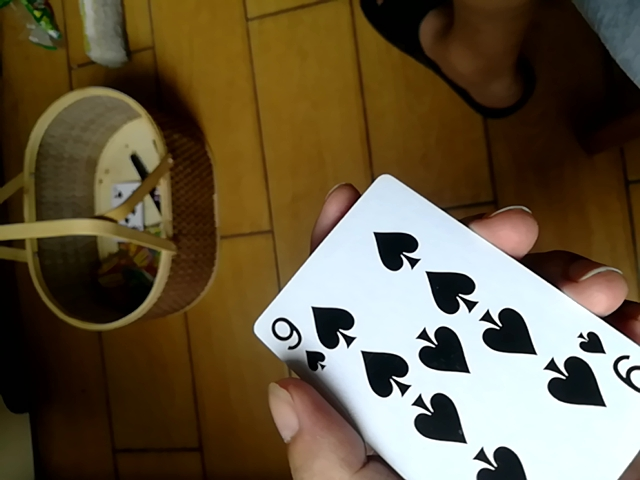ht 9: (255, 170, 638, 479)
